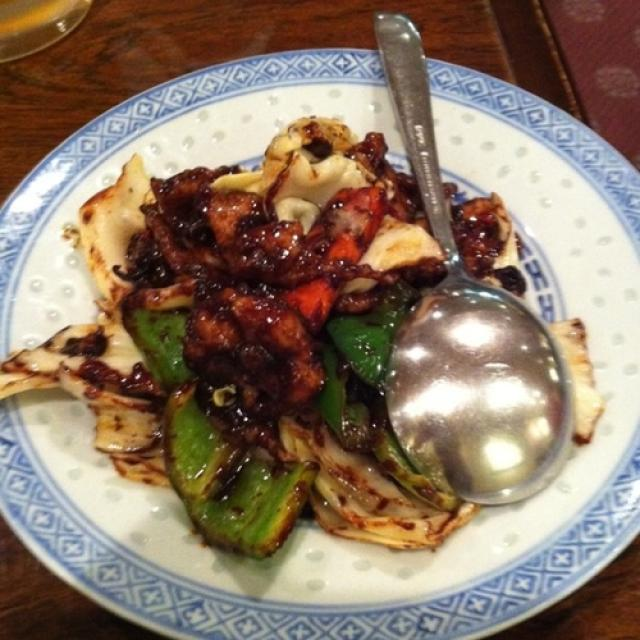猪肉菜式: (45, 90, 585, 578)
